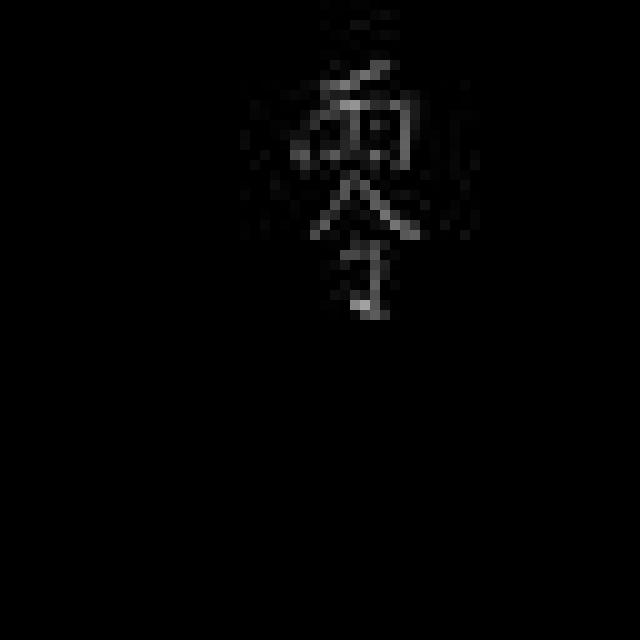0 -zero-: (284, 51, 425, 342)
